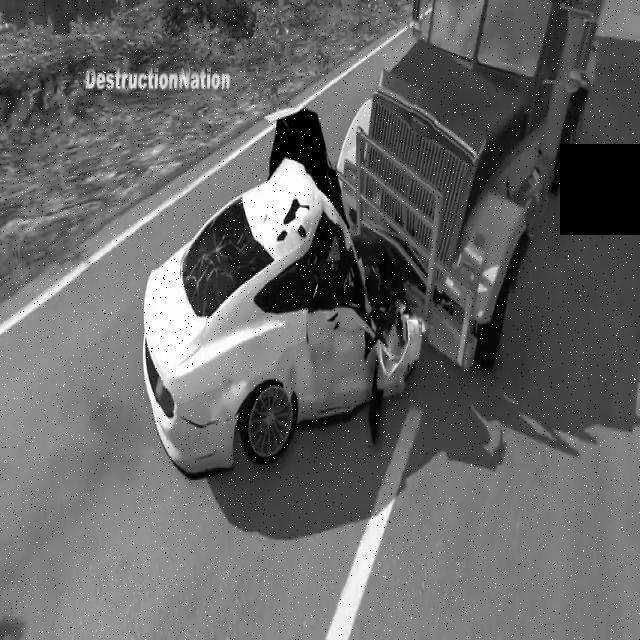severe: (137, 0, 615, 479)
